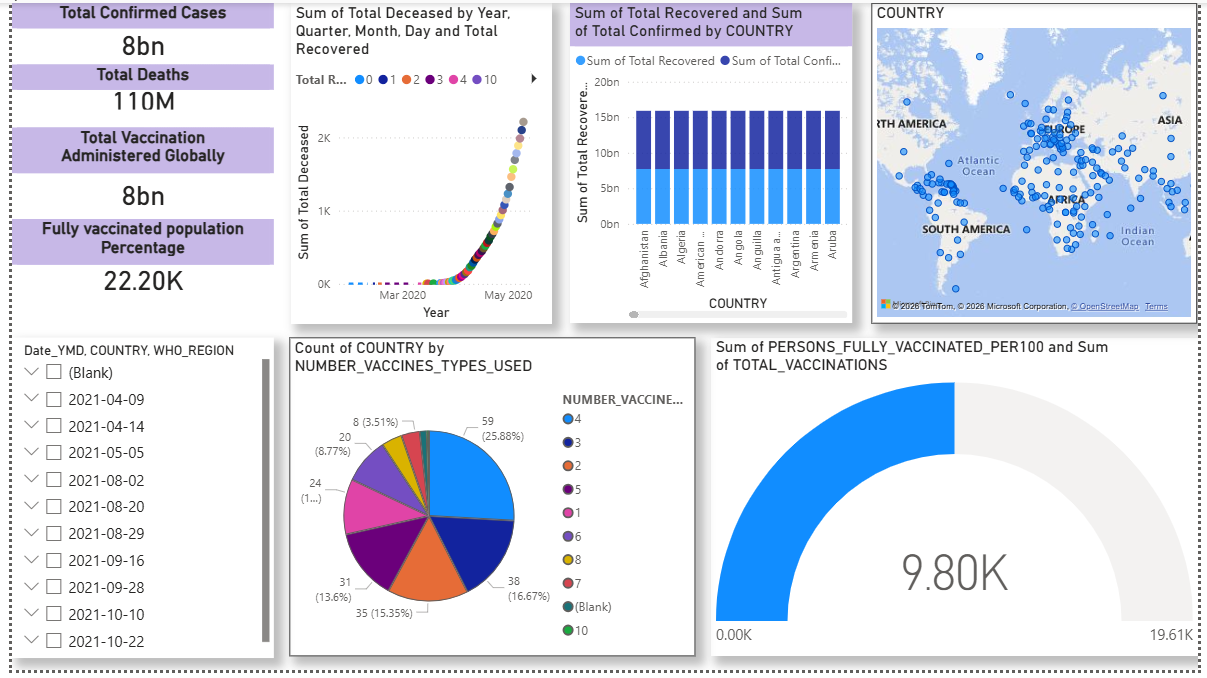

This screenshot's page, from the dashboard's own definition file:
{"tool":"powerbi","page":{"name":"Page 1","canvas":[1280,720],"ordinal":0},"visuals":[{"type":"lineChart","fields":{"Series":["case_time_series - case_time_se.Total Recovered"],"Category":["case_time_series - case_time_se.Date_YMD.Variation.Date Hierarchy.Year","case_time_series - case_time_se.Date_YMD.Variation.Date Hierarchy.Quarter","case_time_series - case_time_se.Date_YMD.Variation.Date Hierarchy.Month","case_time_series - case_time_se.Date_YMD.Variation.Date Hierarchy.Day"],"Y":["Sum(case_time_series - case_time_se.Total Deceased)"]},"box":[300.5,0,281.6,345.8],"z":0},{"type":"columnChart","fields":{"Category":["vaccination-data.COUNTRY"],"Y":["Sum(case_time_series - case_time_se.Total Recovered)","Sum(case_time_series - case_time_se.Total Confirmed)"]},"box":[602.3,0,304.4,345.1],"z":1000},{"type":"map","fields":{"Category":["vaccination-data.COUNTRY"]},"box":[928.1,0,351.3,345.7],"z":2000},{"type":"pieChart","fields":{"Y":["CountNonNull(vaccination-data.COUNTRY)"],"Category":["vaccination-data.NUMBER_VACCINES_TYPES_USED","vaccination-data.VACCINES_USED"]},"box":[299.5,360.5,438.2,343.9],"z":3000},{"type":"gauge","fields":{"Y":["Sum(vaccination-data.PERSONS_FULLY_VACCINATED_PER100)"],"TargetValue":["Sum(vaccination-data.TOTAL_VACCINATIONS)"]},"box":[754.3,360.5,525.1,343.9],"z":4000},{"type":"slicer","fields":{"Values":["case_time_series - case_time_se.Date_YMD","vaccination-data.COUNTRY","vaccination-data.WHO_REGION"]},"box":[0,360.5,282.9,345.7],"z":5000},{"type":"card","title":"Total Confirmed Cases","fields":{"Values":["Sum(case_time_series - case_time_se.Total Confirmed)"]},"box":[0,0,282.9,66.6],"z":6000},{"type":"card","title":"Total Deaths","fields":{"Values":["Sum(case_time_series - case_time_se.Total Deceased)"]},"box":[0,66.6,282.9,53.6],"z":7000},{"type":"card","title":"Total Vaccination Administered Globally","fields":{"Values":["Sum(vaccination-data.TOTAL_VACCINATIONS)"]},"box":[0,135,282.9,98],"z":8000},{"type":"card","title":"Fully vaccinated population Percentage","fields":{"Values":["Sum(vaccination-data.TOTAL_VACCINATIONS_PER100)"]},"box":[0,233,282.9,85],"z":9000}]}

Visuals, with their boxes in screenshot pixels (x1, y1, x2, y2), scaled from the page's 1280x720 canvas onto the 1207x678 screenshot:
lineChart - case_time_series - case_time_se.Total Recovered x case_time_series - case_time_se.Date_YMD.Variation.Date Hierarchy.Year: 283 0 549 326
columnChart - vaccination-data.COUNTRY x Sum(case_time_series - case_time_se.Total Recovered): 568 0 855 325
map - vaccination-data.COUNTRY: 875 0 1206 326
pieChart - CountNonNull(vaccination-data.COUNTRY) x vaccination-data.NUMBER_VACCINES_TYPES_USED: 282 339 696 663
gauge - Sum(vaccination-data.PERSONS_FULLY_VACCINATED_PER100) x Sum(vaccination-data.TOTAL_VACCINATIONS): 711 339 1206 663
slicer - case_time_series - case_time_se.Date_YMD x vaccination-data.COUNTRY: 0 339 267 665
"Total Confirmed Cases" card: 0 0 267 63
"Total Deaths" card: 0 63 267 113
"Total Vaccination Administered Globally" card: 0 127 267 219
"Fully vaccinated population Percentage" card: 0 219 267 299
